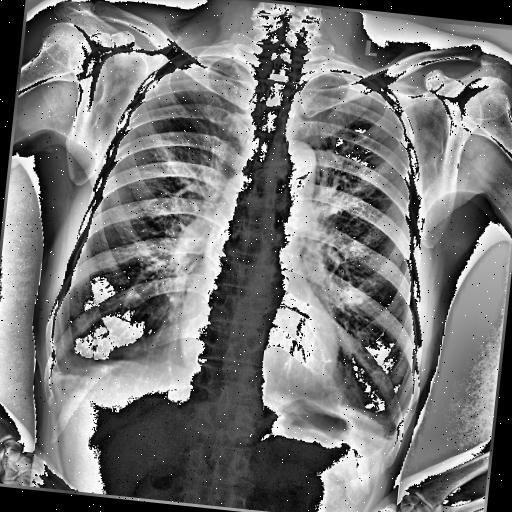0- Aortic enlargement: (269, 134, 319, 182), (269, 138, 318, 184)
10- Pleural effusion: (40, 342, 96, 404), (43, 330, 89, 402), (44, 340, 85, 400), (368, 400, 406, 454), (364, 403, 404, 452), (378, 415, 406, 457)
11- Pleural thickening: (40, 342, 96, 404), (43, 330, 89, 402), (44, 340, 85, 400), (368, 400, 406, 454), (364, 403, 404, 452), (378, 415, 406, 457)
